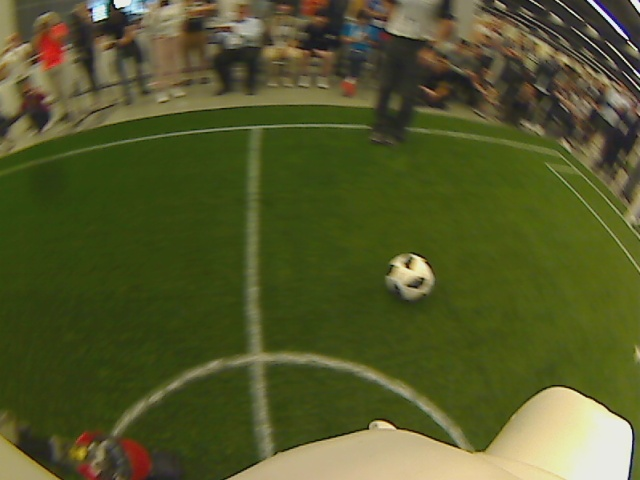ball: (383, 251, 436, 300)
